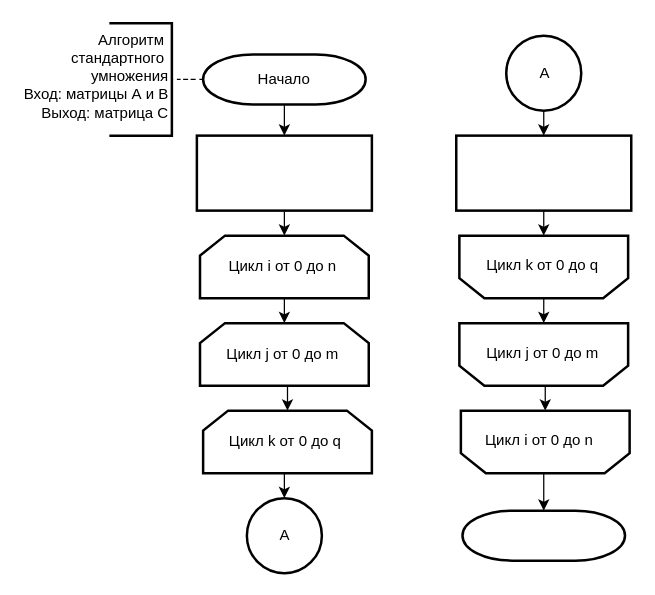
Some shapes in this 655 by 595 pixel diagram are drawn without their labels. Each missing label, with the box of its shape:
C[i][j] = A[i][k] * B[k][j]: (454, 134, 632, 211)
n = кол-во столбцов A m = кол-во строк А q = кол-во строк B: (195, 134, 372, 211)
Конец: (461, 509, 626, 561)
